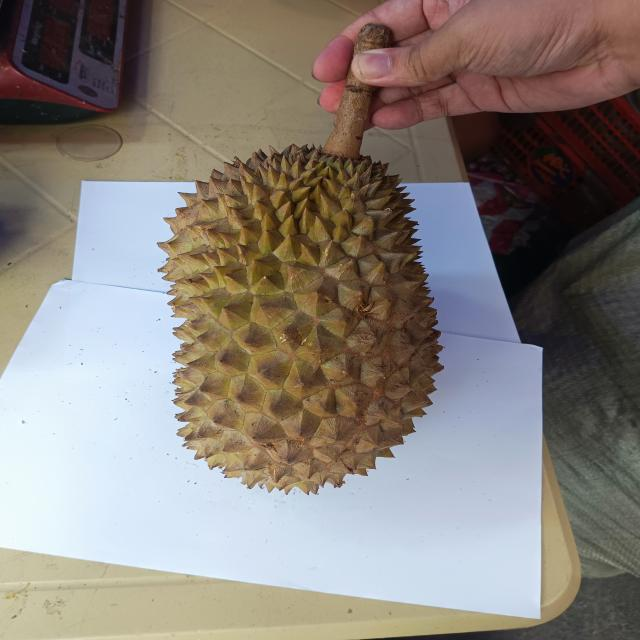mature: (157, 135, 444, 494)
